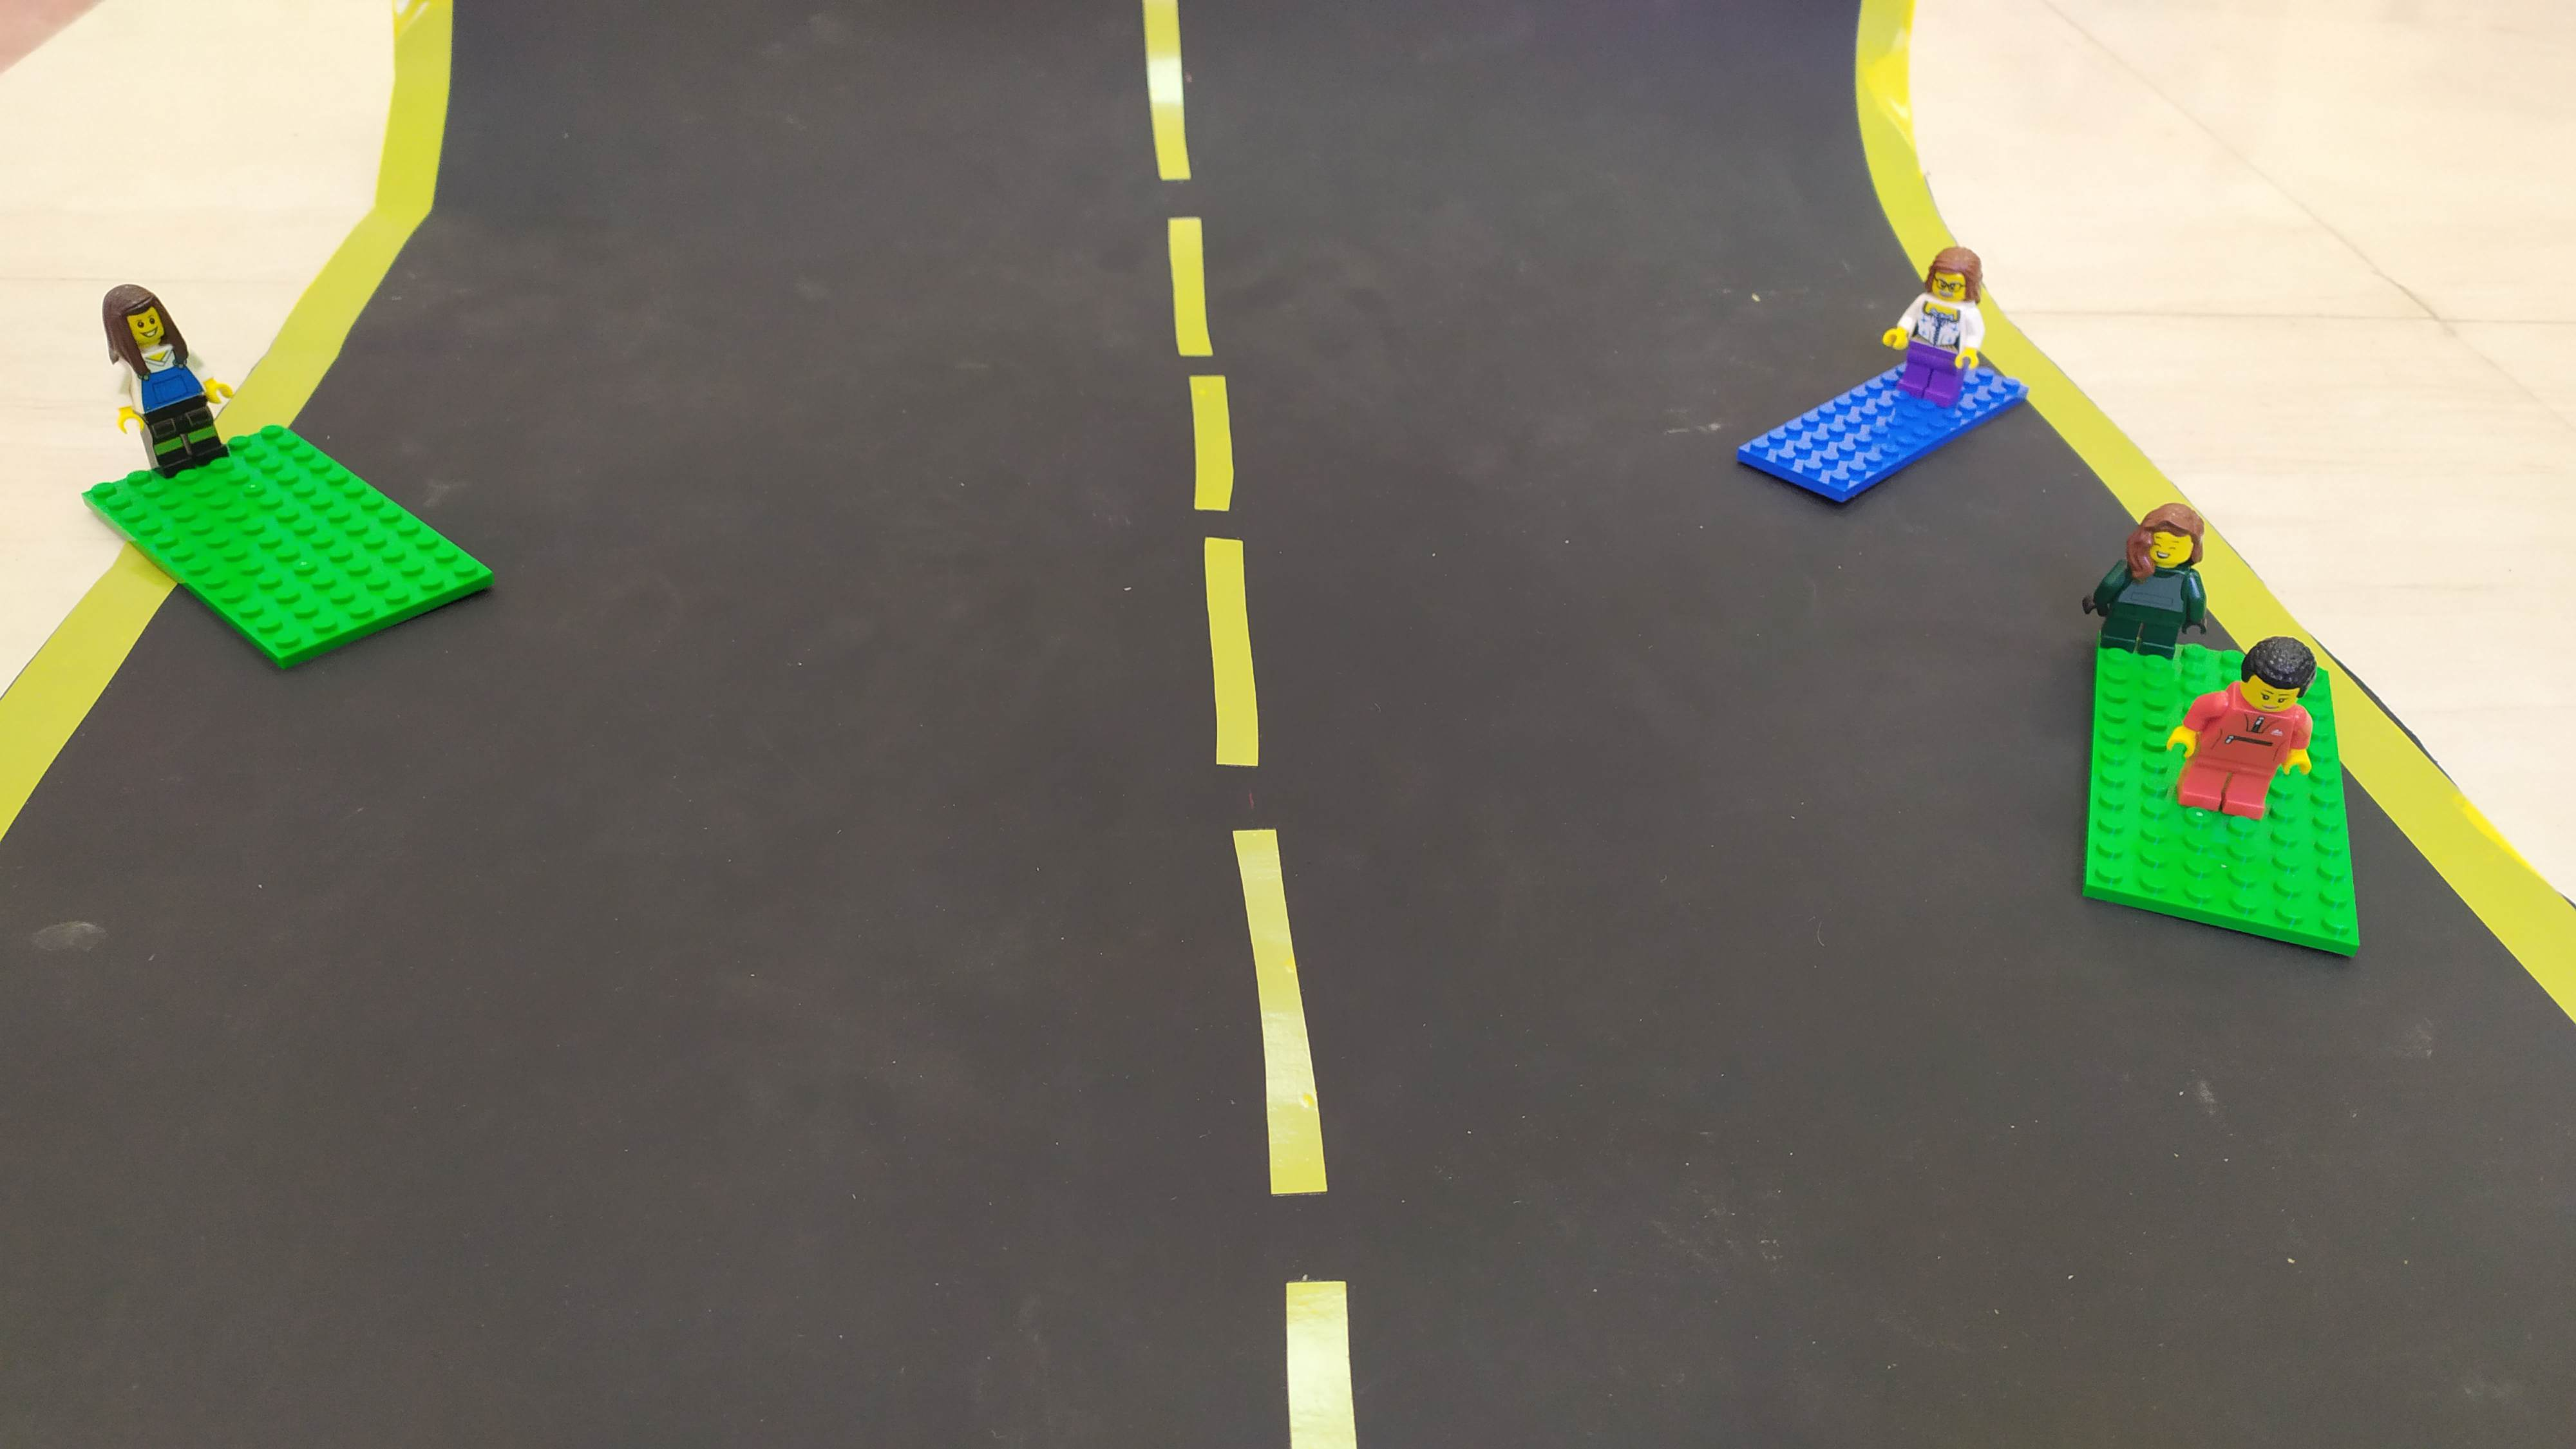Person: (2193, 654, 2347, 821), (113, 280, 222, 499), (1897, 241, 2012, 428), (2103, 480, 2206, 686)
